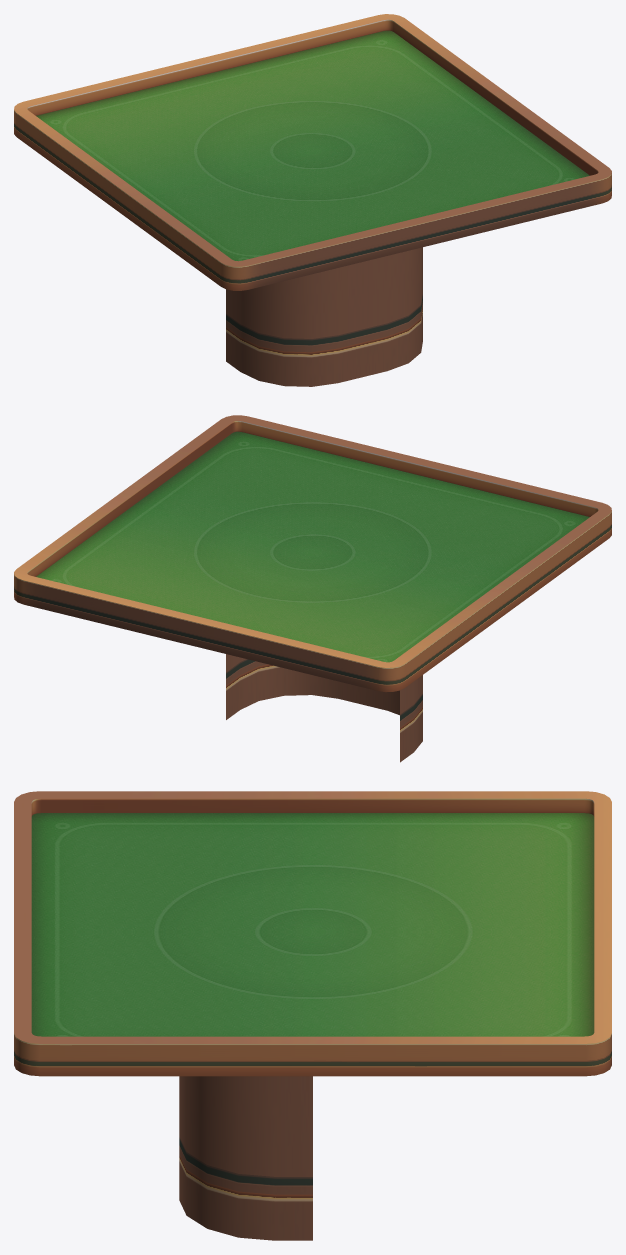
The model's file is MJDesk.fbx.
3 renders of one model, top to bottom at view 1: azimuth 30°, elevation 25°; view 2: azimuth 150°, elevation 25°; view 3: azimuth 270°, elevation 25°, orthographic. The views are drawn at different scales.
Visible parts, largest first — view 1: Cube.004; view 2: Cube.004; view 3: Cube.004.
Boxes of the visible parts, bbox=[...] form: Cube.004: bbox=[14, 14, 611, 386]; Cube.004: bbox=[14, 415, 611, 762]; Cube.004: bbox=[14, 791, 611, 1240].
Size of the model in its own units: 3689 by 1815 by 3689.
